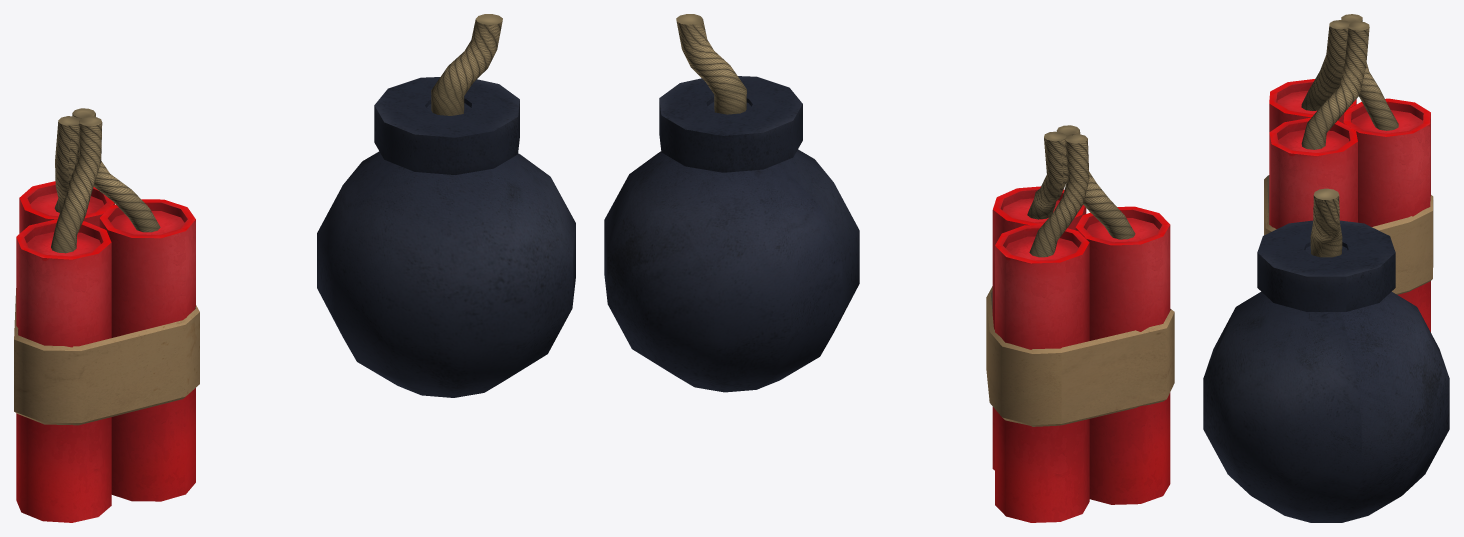
The model's file is explosives.fbx.
The picture shows the model from 3 angles, left to right: view 1: azimuth 30°, elevation 25°; view 2: azimuth 150°, elevation 25°; view 3: azimuth 270°, elevation 25°; orthographic projection. The views are drawn at different scales.
Visible parts, largest first — view 1: Bomb, TNT; view 2: Bomb, TNT; view 3: Bomb, TNT.
Boxes of the visible parts, x1,y1,x2,y2 form: Bomb: (317,14,575,397); TNT: (14,108,199,522); Bomb: (604,14,859,392); TNT: (986,125,1174,522); Bomb: (1203,188,1449,522); TNT: (1264,14,1433,332).
Size of the model in its own units: 358 by 233 by 147.
